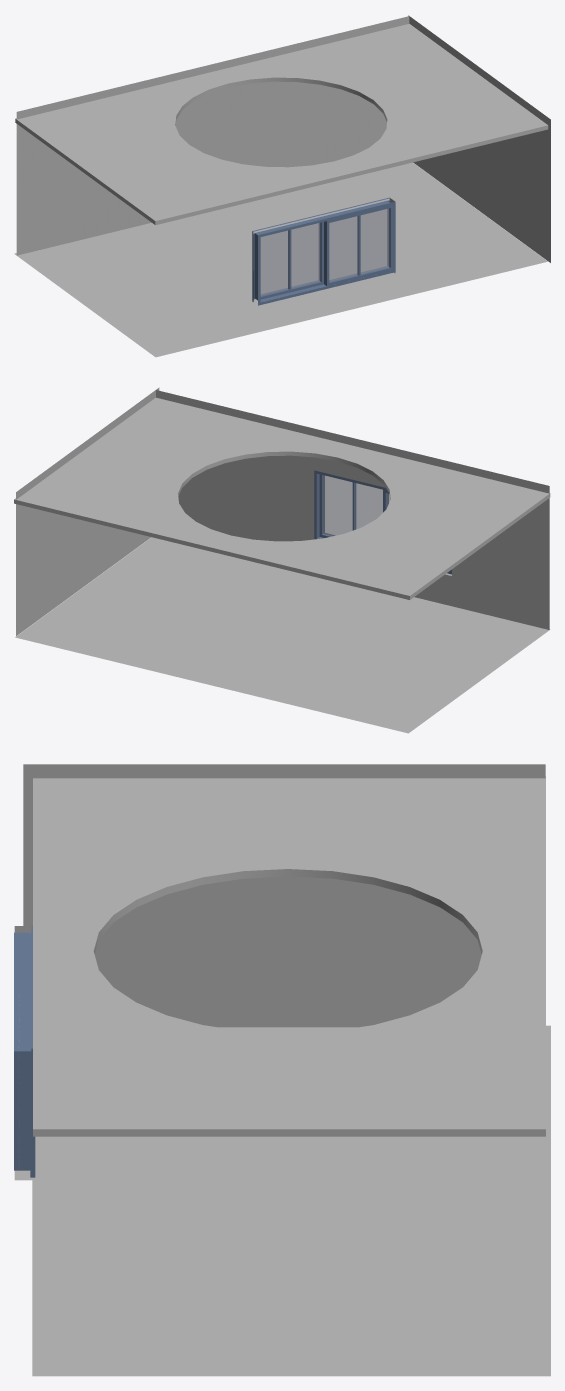
Rendered from fangzi.gltf.
3 views of the same model, one above another, from view 1: azimuth 30°, elevation 25°; view 2: azimuth 150°, elevation 25°; view 3: azimuth 270°, elevation 25° (orthographic). The views are drawn at different scales.
Visible parts, largest first — view 1: Box006, avavvcx, SlidingWindow01; view 2: Box006, avavvcx, SlidingWindow01; view 3: Box006, SlidingWindow01.
Part boxes in pixels (x1=…): Box006: x1=14, y1=15, x2=550, y2=357; avavvcx: x1=256, y1=208, x2=389, y2=295; SlidingWindow01: x1=252, y1=197, x2=395, y2=305; Box006: x1=14, y1=387, x2=550, y2=733; avavvcx: x1=323, y1=475, x2=390, y2=535; SlidingWindow01: x1=314, y1=470, x2=451, y2=574; Box006: x1=14, y1=764, x2=550, y2=1376; SlidingWindow01: x1=14, y1=926, x2=35, y2=1177.
Size of the model in its own units: 8.05 by 2.8 by 5.18.
